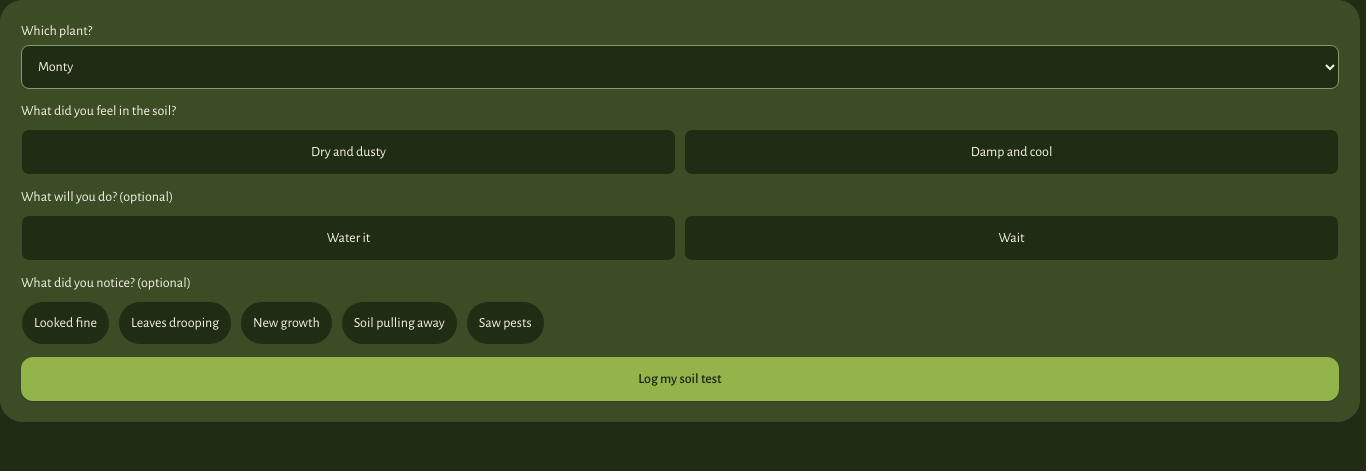
Test: SoilTestStep with plants › submitting with no outcome shows a plain error and sends nothing
Click the button "Log my soil test" at [680, 379], box [21,357,1339,401]
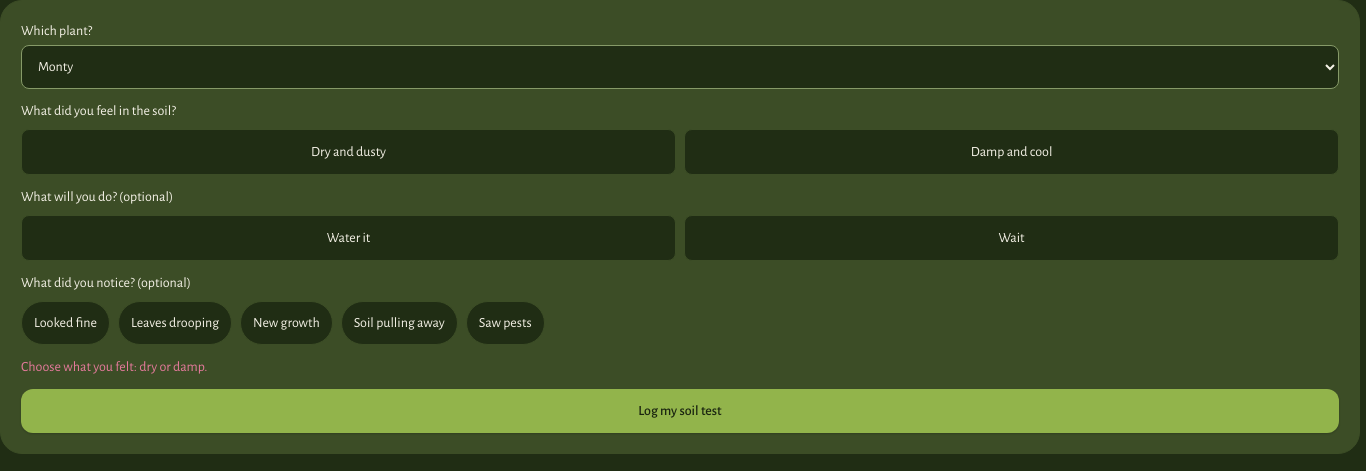
Result: the message "Choose what you felt: dry or damp." is shown at [21,360,208,374]
